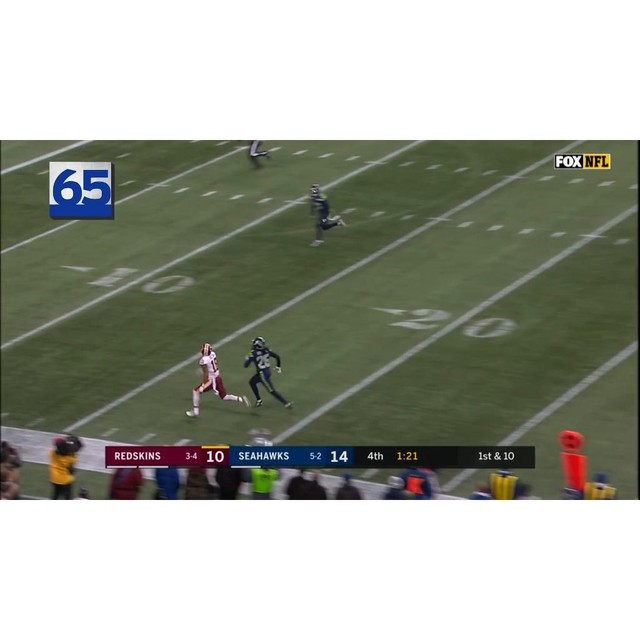american-football-player: (186, 341, 249, 418), (245, 338, 293, 409), (306, 183, 347, 246)
